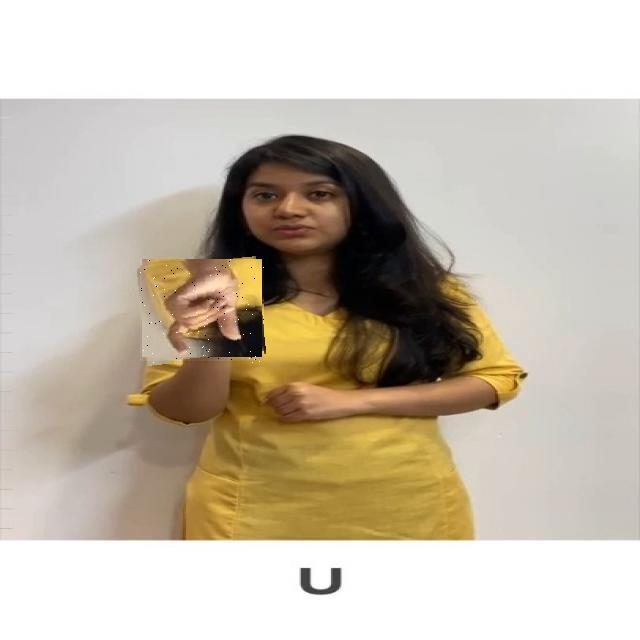U: (140, 260, 264, 364)
